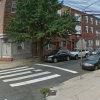Car: (40, 48, 81, 66)
